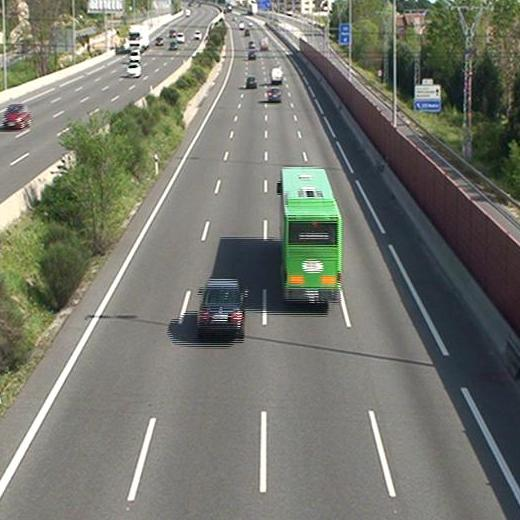bus: (279, 166, 342, 303)
car: (197, 281, 245, 337), (267, 87, 282, 102), (246, 75, 258, 87), (247, 49, 256, 59)
van: (270, 67, 282, 84), (259, 36, 268, 50)
